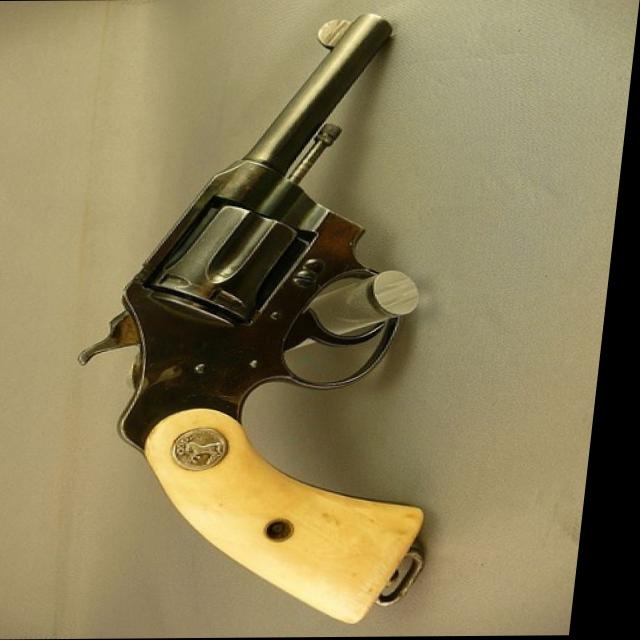handgun: (62, 13, 490, 625)
